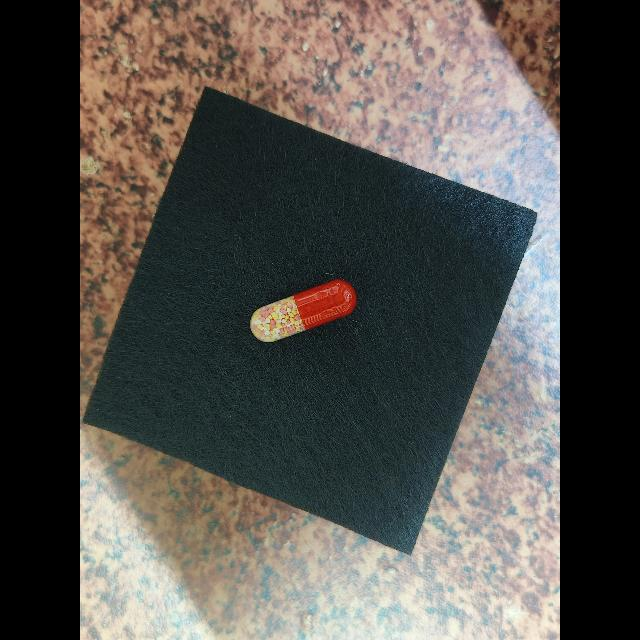Intact Capsule: (250, 279, 357, 342)
